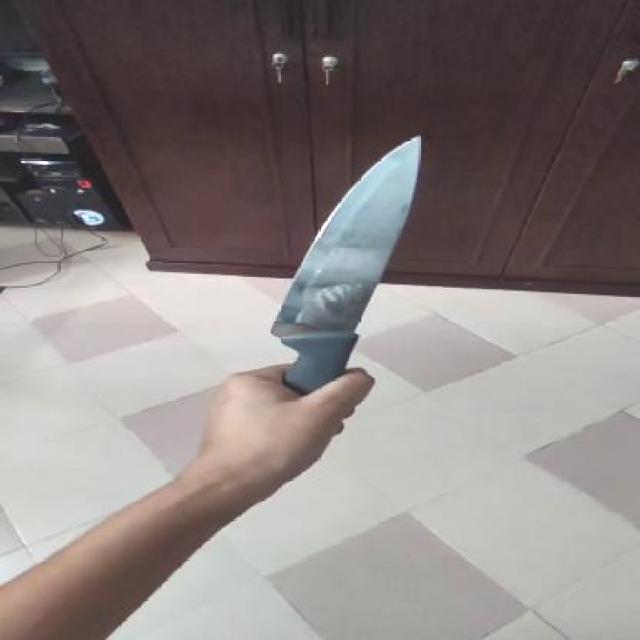knife: (252, 131, 448, 371)
